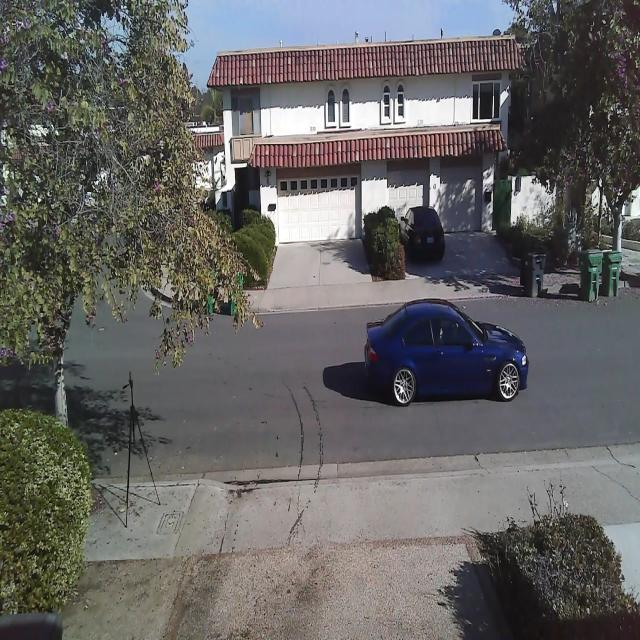Carbeetle: (355, 293, 534, 410)
Civilian: (397, 206, 445, 264)
